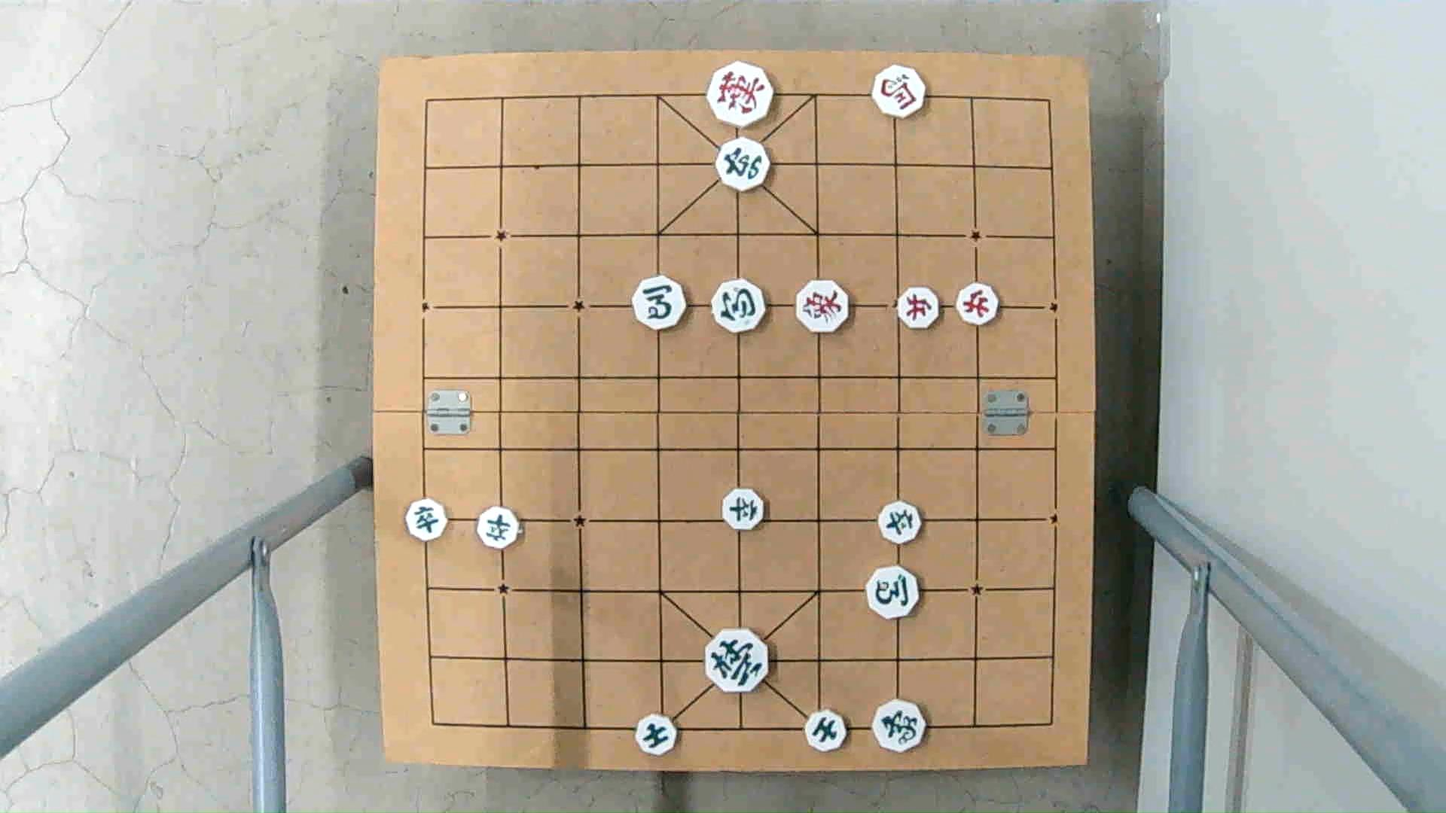cha_green: (715, 139, 770, 187)
jol_green: (718, 488, 767, 531), (877, 501, 922, 544), (404, 499, 449, 540), (478, 506, 520, 549)
jol_red: (955, 283, 998, 326), (899, 288, 941, 328)
ma_green: (629, 280, 687, 330), (862, 568, 919, 617)
ma_red: (874, 68, 925, 116)
po_green: (712, 282, 769, 330)
sa_green: (804, 711, 850, 754), (632, 714, 680, 754)
sang_green: (873, 702, 923, 751)
sang_red: (793, 282, 850, 333)
wang_green: (702, 632, 770, 688)
wang_red: (705, 65, 774, 127)
